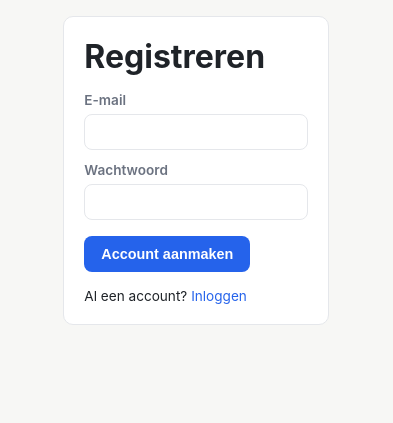
Test: RegisterForm › shows an error message when sign-up fails
The image size is (393, 423).
Click the button "Account aanmaken" at [167, 254], box x1=84 y1=236 x2=250 y2=272
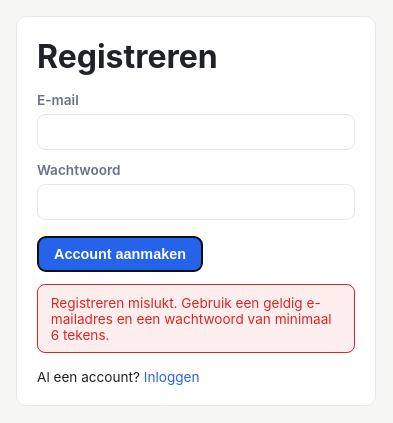
Check: the message shows "Registreren mislukt", box x1=51 y1=295 x2=332 y2=343
